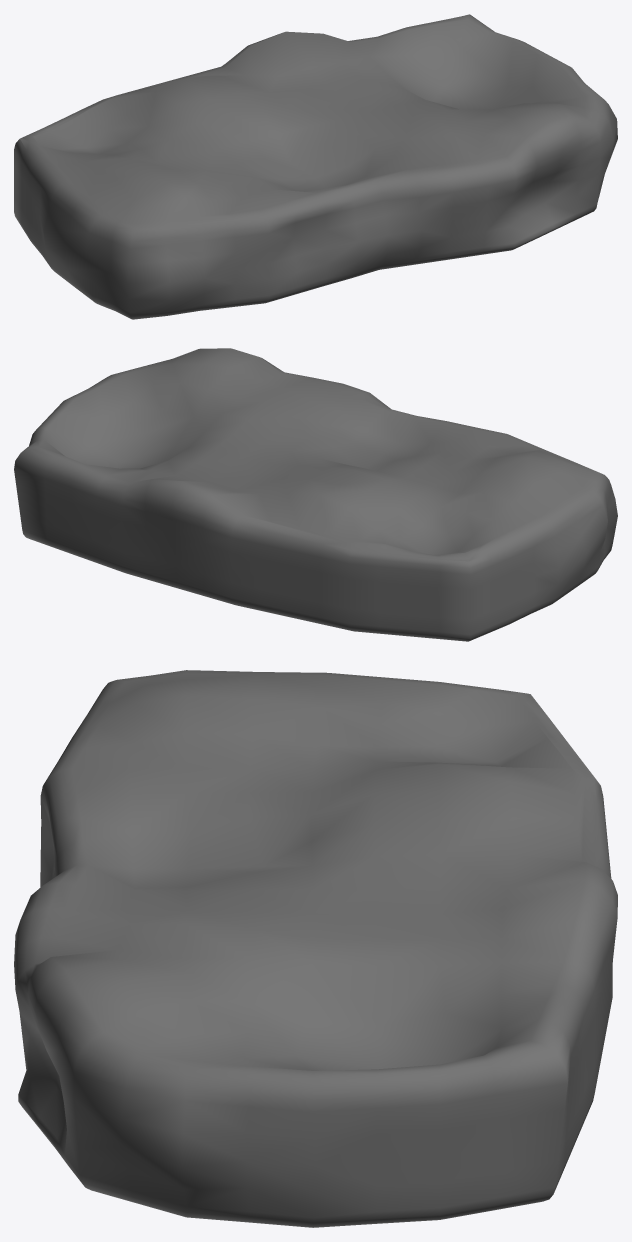
The model's file is Ground.obj.
3 views of the same model, one above another, from view 1: azimuth 30°, elevation 25°; view 2: azimuth 150°, elevation 25°; view 3: azimuth 270°, elevation 25° (orthographic). The views are drawn at different scales.
Parts seen in each view (by area): view 1: 平面; view 2: 平面; view 3: 平面.
Part boxes in pixels (x1,y1,x2,y2): 平面: (14, 14, 617, 319); 平面: (14, 348, 617, 641); 平面: (14, 670, 617, 1227).
Size of the model in its own units: 4.51 by 0.9037 by 2.65.
1 material, 1 textured.
